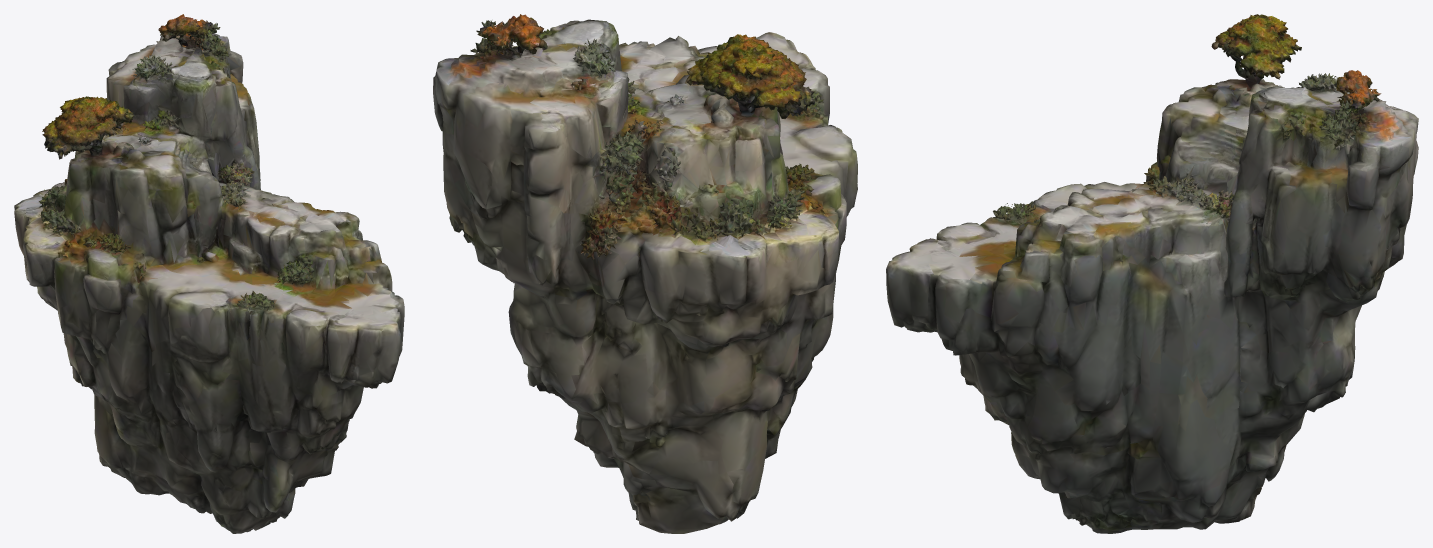
The model's file is Skyward_Ascent_Flying.glb.
3 views of the same model, side by side, from view 1: azimuth 30°, elevation 25°; view 2: azimuth 150°, elevation 25°; view 3: azimuth 270°, elevation 25° (orthographic). The views are drawn at different scales.
Parts seen in each view (by area): view 1: Skyward_Ascent_Flying; view 2: Skyward_Ascent_Flying; view 3: Skyward_Ascent_Flying.
Part boxes in pixels (left/top/right/bottom): Skyward_Ascent_Flying: left=14, top=14, right=404, bottom=533; Skyward_Ascent_Flying: left=433, top=14, right=857, bottom=533; Skyward_Ascent_Flying: left=886, top=14, right=1418, bottom=533.
Size of the model in its own units: 1.21 by 1.89 by 1.88.
1 material, 1 textured.
